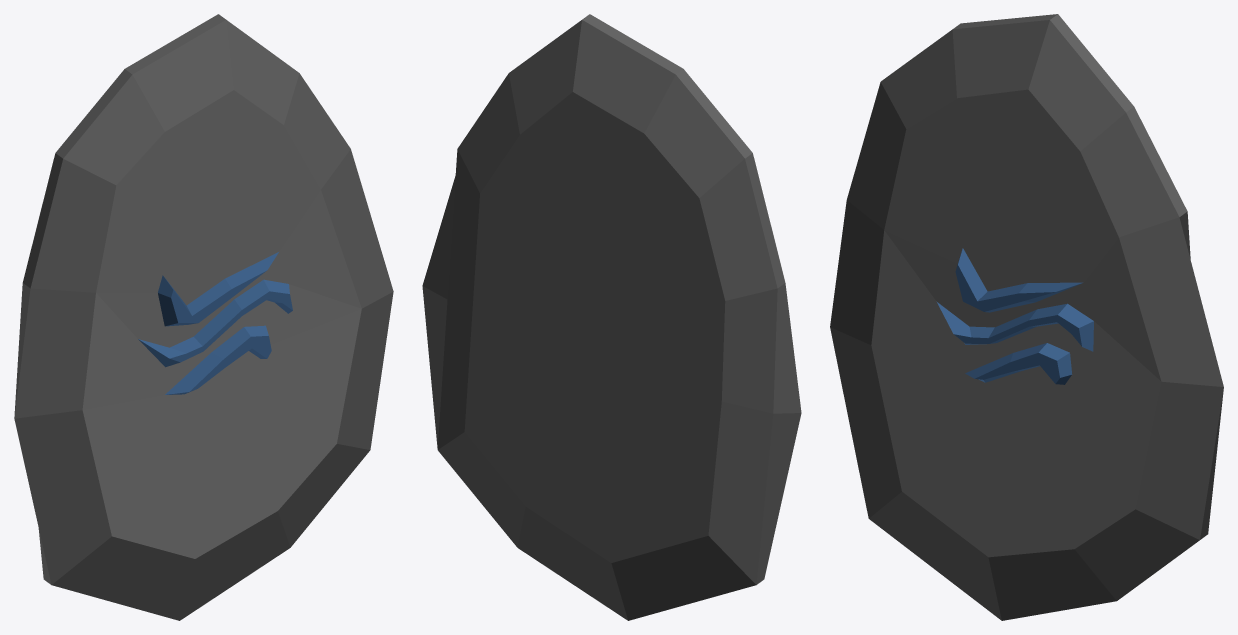
File: blue rune.fbx
The picture shows the model from 3 angles, left to right: view 1: azimuth 30°, elevation 25°; view 2: azimuth 150°, elevation 25°; view 3: azimuth 330°, elevation 25°; orthographic projection. The views are drawn at different scales.
Parts seen in each view (by area): view 1: blue rune; view 2: blue rune; view 3: blue rune.
Boxes of the visible parts, x1,y1,x2,y2 form: blue rune: (14,14,393,620); blue rune: (422,14,801,620); blue rune: (830,14,1223,620).
Bounding box in the file's own units: 316 × 470 × 57.54.
